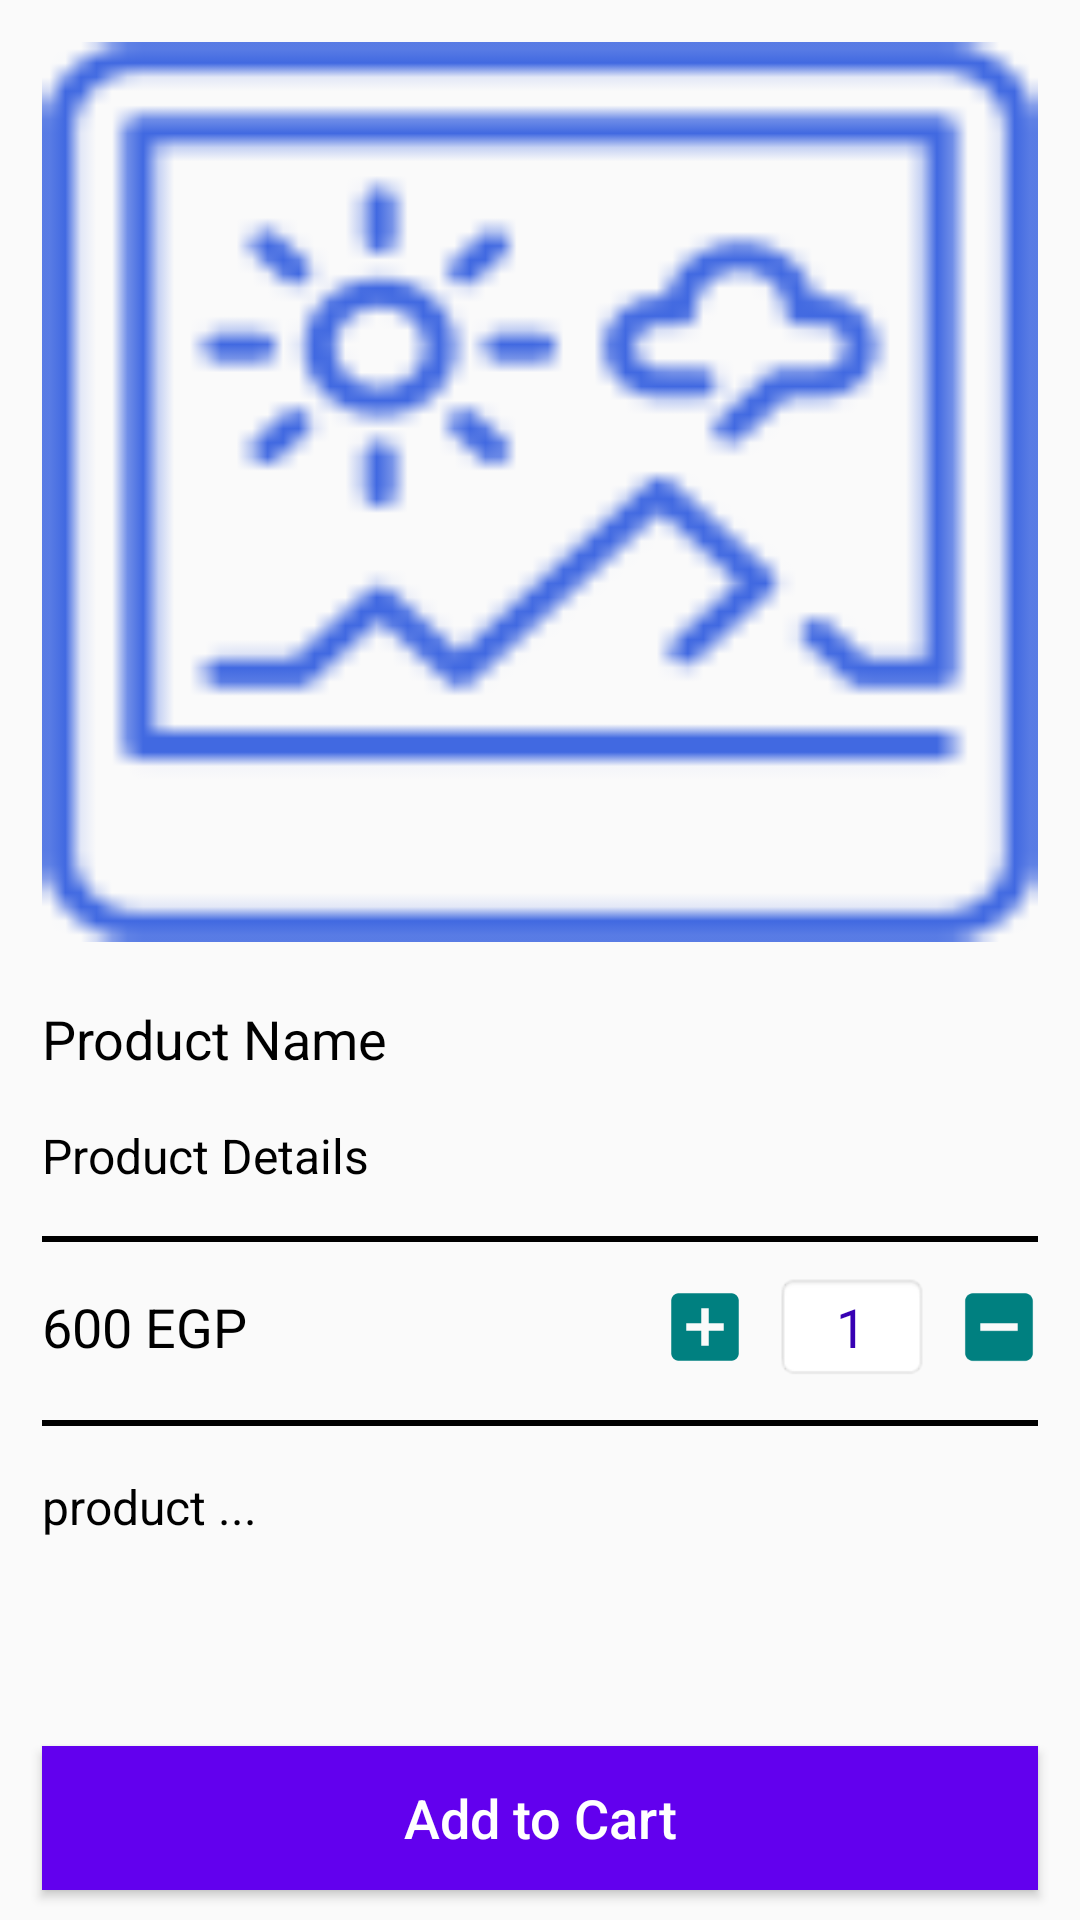

Icon bounding boxes for this 1080 x 1920 phone screenshot, format Rect(x1, y1, x2, y2):
add box: Rect(671, 1293, 739, 1361)
remove box: Rect(965, 1293, 1033, 1361)
